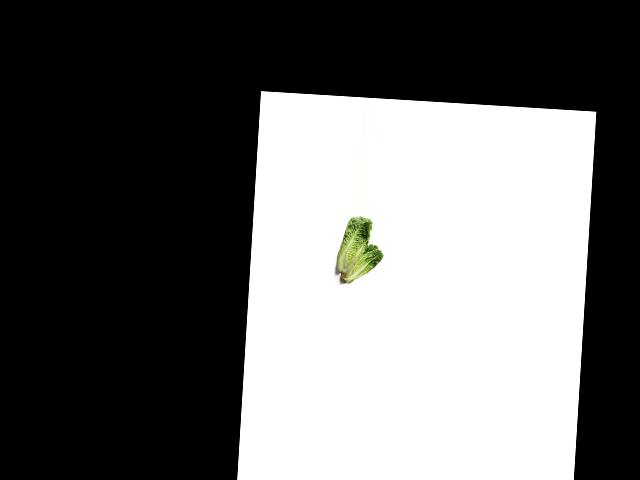lettuce: (338, 242, 384, 288)
